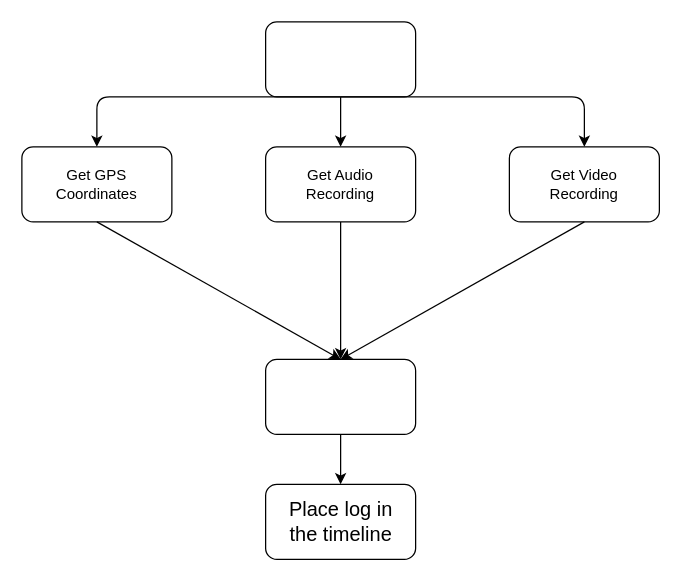
This 681x581 diagram has some shape labels left out. Here are the shapes that lost their labels. From the top down, the centre of each, then its label:
At [340,59]: "Call Ends".
At [340,396]: "Create New Log".
